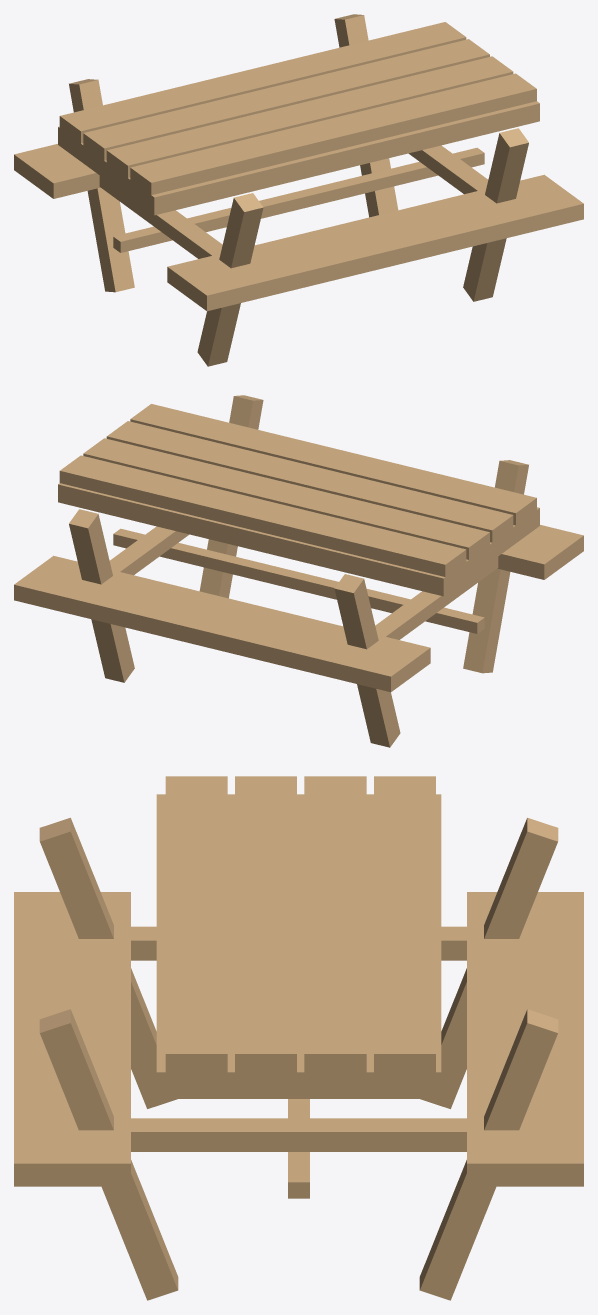
The model's file is lawn-mowing-simulator-kit-picnic-table-7f12f485__27397.glb.
3 views of the same model, one above another, from view 1: azimuth 30°, elevation 25°; view 2: azimuth 150°, elevation 25°; view 3: azimuth 270°, elevation 25° (orthographic). The views are drawn at different scales.
Parts seen in each view (by area): view 1: picnic-table; view 2: picnic-table; view 3: picnic-table.
Part boxes in pixels (x1,y1,x2,y2): picnic-table: [14, 14, 583, 366]; picnic-table: [14, 395, 583, 747]; picnic-table: [14, 776, 583, 1300].
Bounding box in the file's own units: 1.8 × 0.8544 × 1.56.
